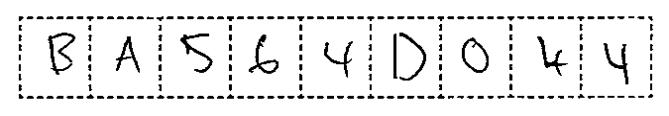0: (457, 32, 494, 78)
4: (596, 35, 638, 88), (315, 34, 359, 82), (534, 32, 572, 80)
5: (173, 27, 220, 77)
6: (242, 30, 282, 78)
A: (111, 33, 146, 79)
B: (42, 27, 80, 78)
D: (386, 27, 433, 86)
